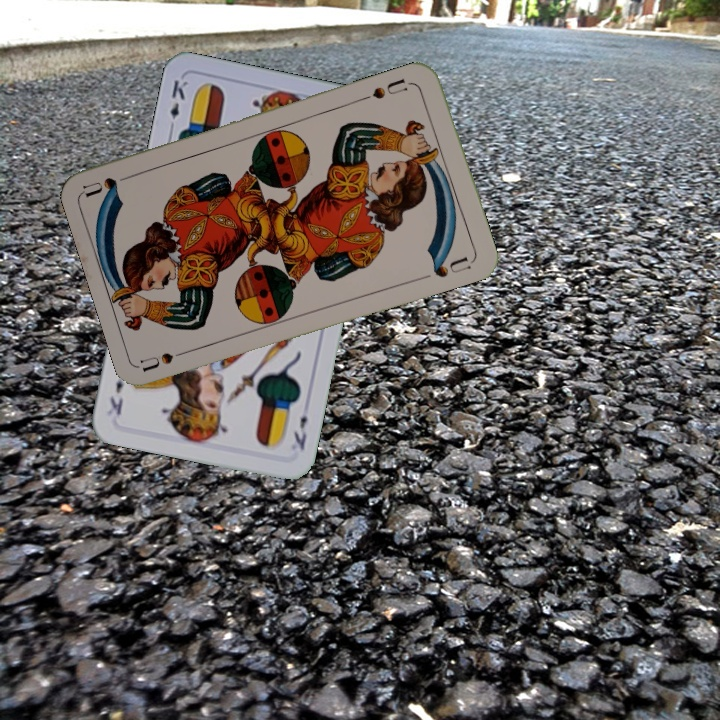EK: (165, 76, 190, 134), (289, 411, 310, 453)
SU: (138, 344, 197, 374), (368, 74, 409, 102)
